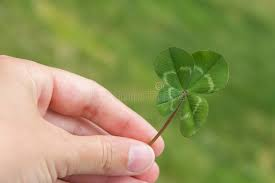4-clover: (154, 47, 229, 139)
